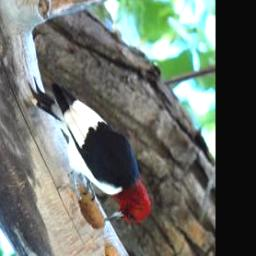Woodpecker: (24, 77, 149, 226)
